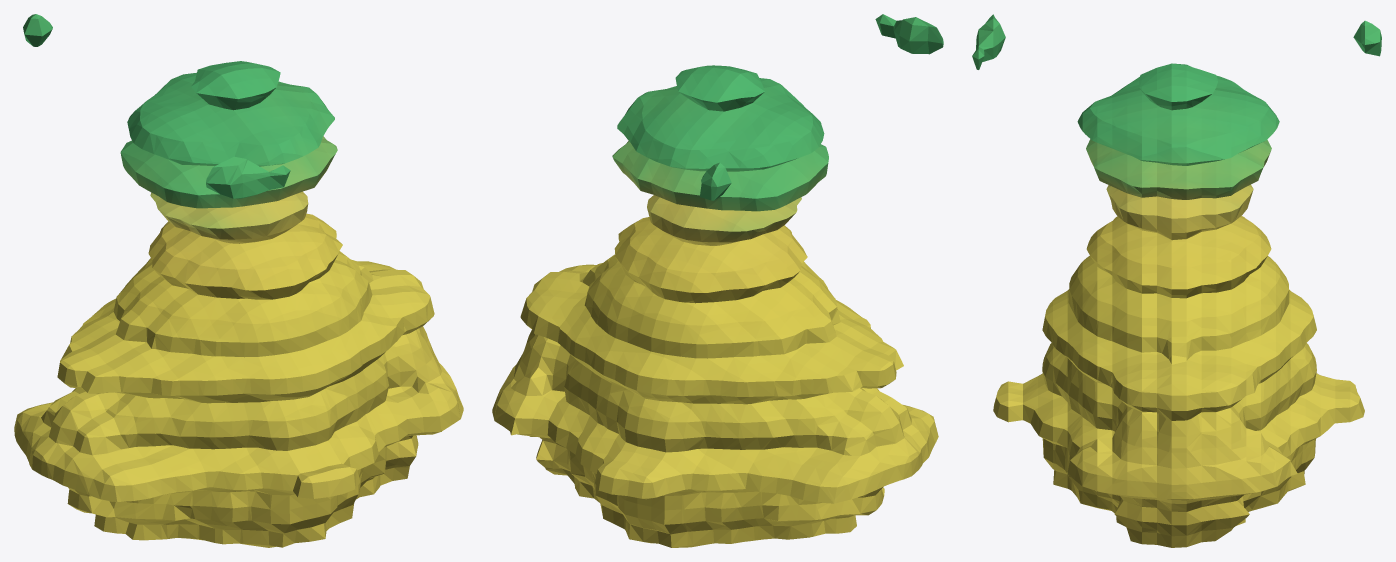
3 renders of one model, left to right at view 1: azimuth 30°, elevation 25°; view 2: azimuth 150°, elevation 25°; view 3: azimuth 270°, elevation 25°, orthographic. The views are drawn at different scales.
Parts seen in each view (by area): view 1: geometry_0; view 2: geometry_0; view 3: geometry_0.
Boxes of the visible parts, x1,y1,x2,y2 form: geometry_0: (14,14,463,547); geometry_0: (492,14,943,547); geometry_0: (972,14,1381,547).
Size of the model in its own units: 1.25 by 1.35 by 1.17.
